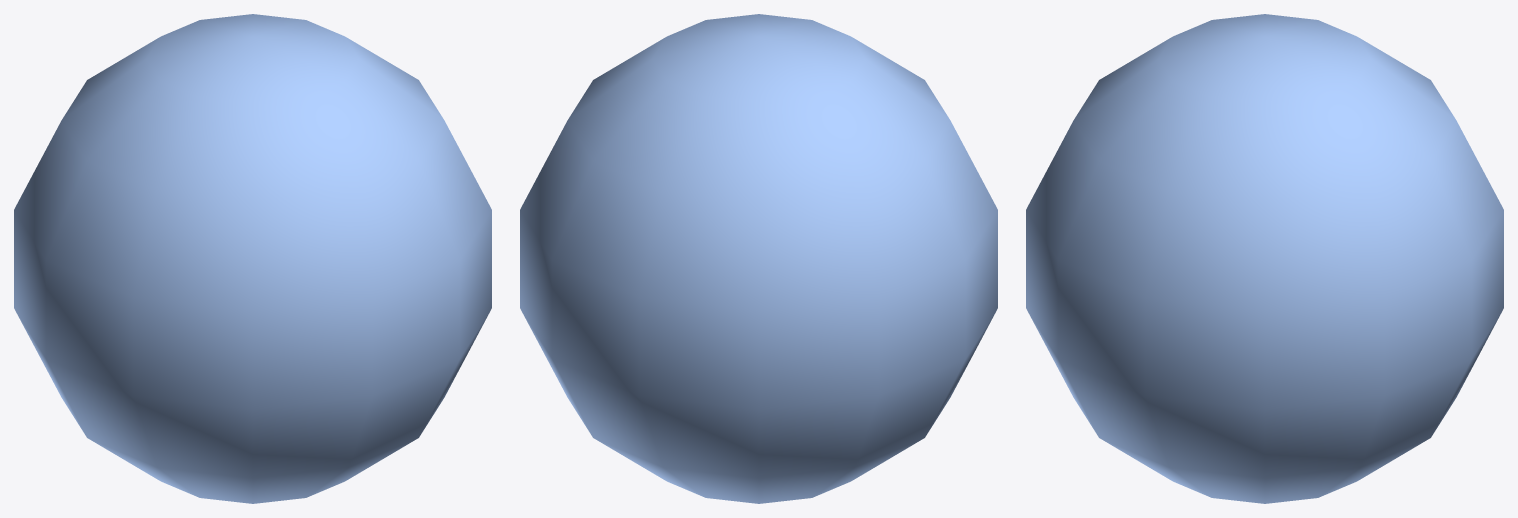
Rendered from ball.gltf.
3 views of the same model, side by side, from view 1: azimuth 30°, elevation 25°; view 2: azimuth 150°, elevation 25°; view 3: azimuth 270°, elevation 25° (orthographic).
Parts seen in each view (by area): view 1: 球; view 2: 球; view 3: 球.
Boxes of the visible parts, box(x1,y1,x2,y2) form: 球: box(14, 14, 491, 503); 球: box(520, 14, 997, 503); 球: box(1026, 14, 1503, 503).
Size of the model in its own units: 0.4875 by 0.5 by 0.4875.
